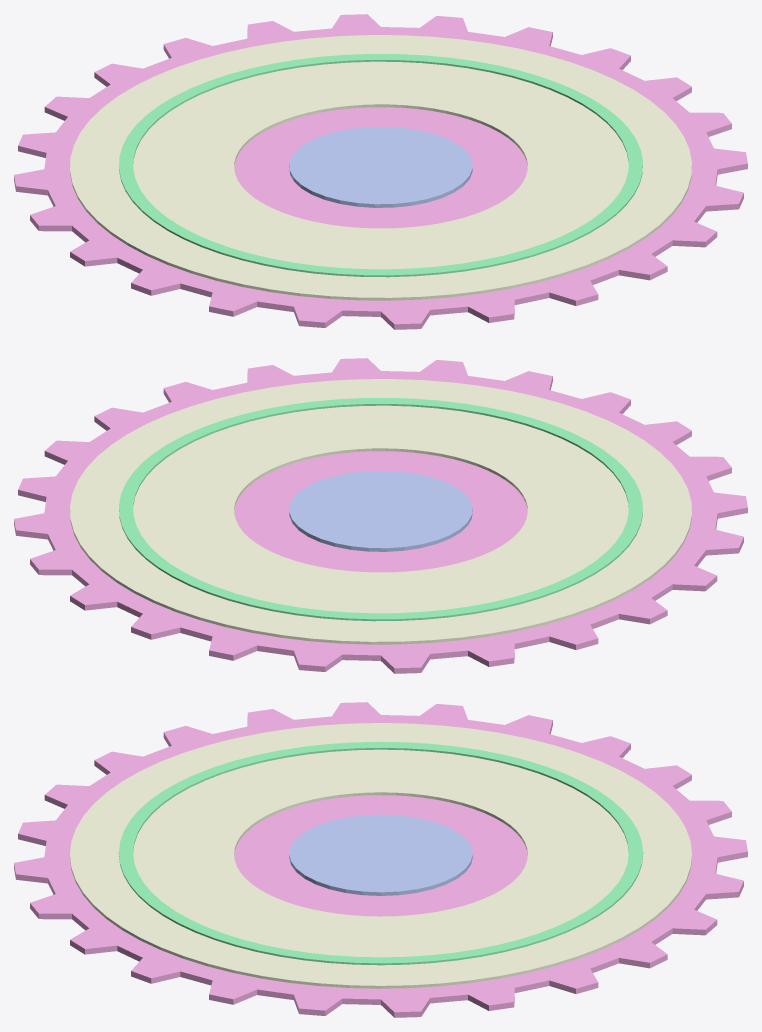
Rendered from Gear_Core.obj.
3 views of the same model, one above another, from view 1: azimuth 30°, elevation 25°; view 2: azimuth 150°, elevation 25°; view 3: azimuth 270°, elevation 25° (orthographic).
Visible parts, largest first — view 1: Gear_Core; view 2: Gear_Core; view 3: Gear_Core.
Part boxes in pixels (bbox=[...]): Gear_Core: bbox=[14, 14, 747, 329]; Gear_Core: bbox=[14, 358, 747, 673]; Gear_Core: bbox=[14, 702, 747, 1017].
Size of the model in its own units: 7.2 by 0.11 by 7.2.
